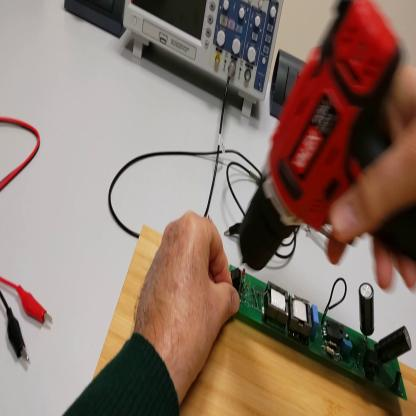electric screwdriver: (234, 1, 416, 277)
hand: (318, 53, 416, 294), (137, 210, 240, 385)
high voltage board: (231, 262, 412, 399)
oscilloscope: (128, 2, 284, 119)
oscilloscope probe tip: (250, 174, 338, 243)
socket: (65, 2, 125, 38)
working area: (96, 223, 416, 415)
